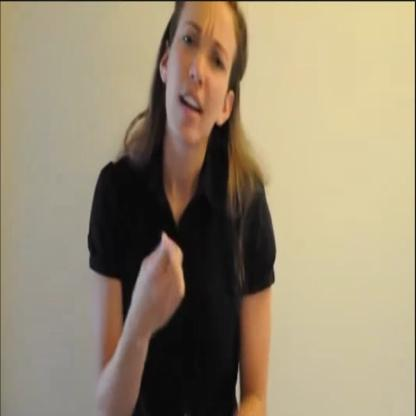HowAreYou: (117, 219, 209, 349)
